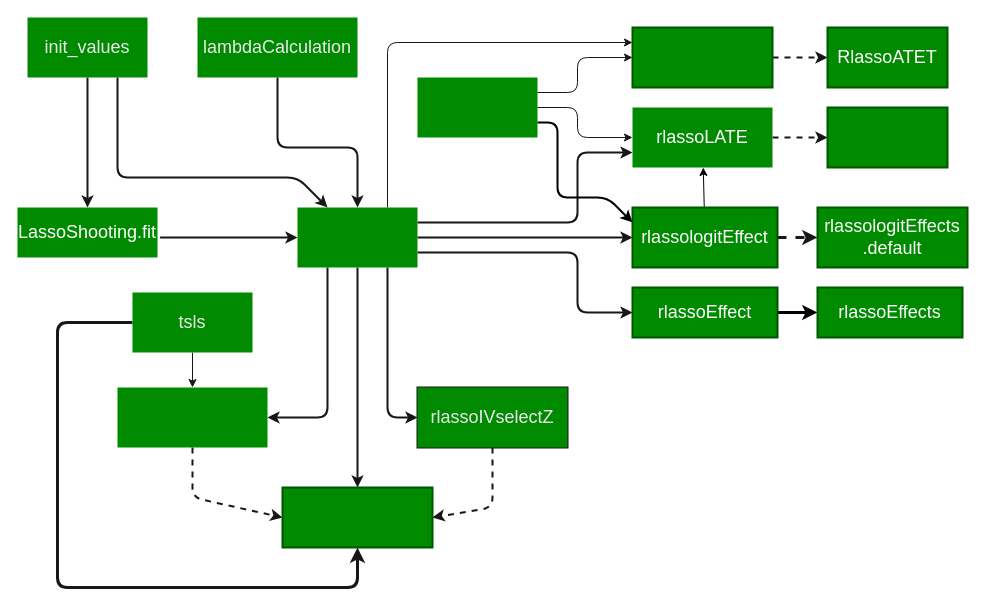
Some shapes in this 985 by 614 pixel diagram are drawn without their labels. Each missing label, with the box of its shape:
rlasso: (297, 207, 417, 267)
rlassoATE: (826, 106, 948, 168)
rlassoIV: (281, 486, 433, 548)
rlassoIVselectX: (117, 387, 267, 447)
rlassoLATET.: (631, 26, 773, 88)
rlassologit: (417, 77, 537, 137)
